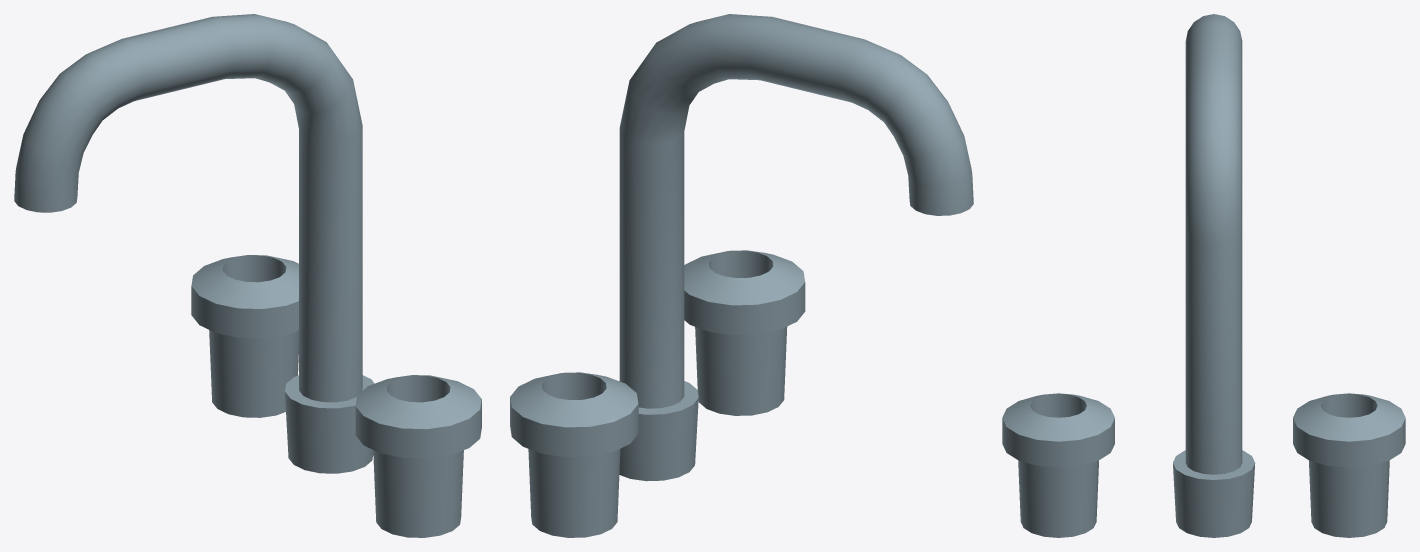
File: Faucet.fbx
3 views of the same model, side by side, from view 1: azimuth 30°, elevation 25°; view 2: azimuth 150°, elevation 25°; view 3: azimuth 270°, elevation 25° (orthographic). The views are drawn at different scales.
Parts seen in each view (by area): view 1: Faucet; view 2: Faucet; view 3: Faucet.
Boxes of the visible parts, x1,y1,x2,y2 form: Faucet: (14, 14, 481, 537); Faucet: (510, 14, 973, 537); Faucet: (1002, 14, 1405, 537).
Size of the model in its own units: 0.1451 by 0.1556 by 0.1749.
